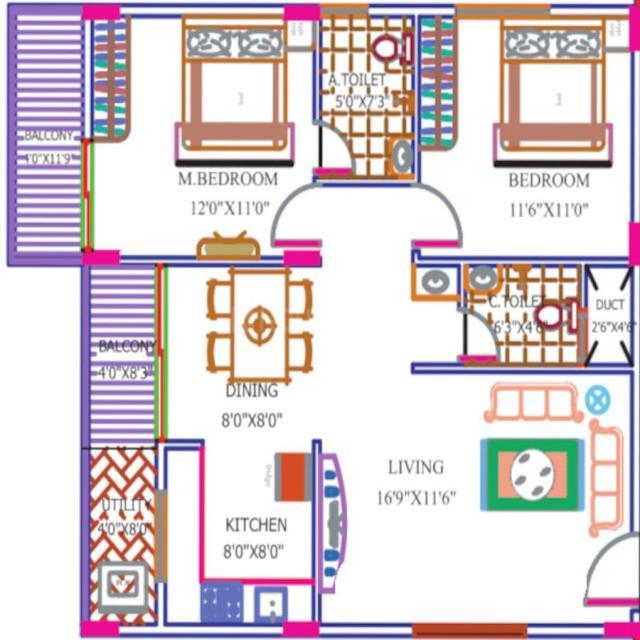Balcony-Sitout: (6, 1, 89, 267), (79, 259, 166, 448)
Bedroom: (411, 4, 640, 270)
Bedroom with Toilet: (83, 9, 421, 261)
Dining: (206, 264, 315, 400)
Kitchen: (168, 443, 314, 640)
Living: (314, 360, 640, 640)
Toilet: (317, 4, 418, 185), (462, 257, 592, 370)
Utility: (82, 445, 171, 635)
